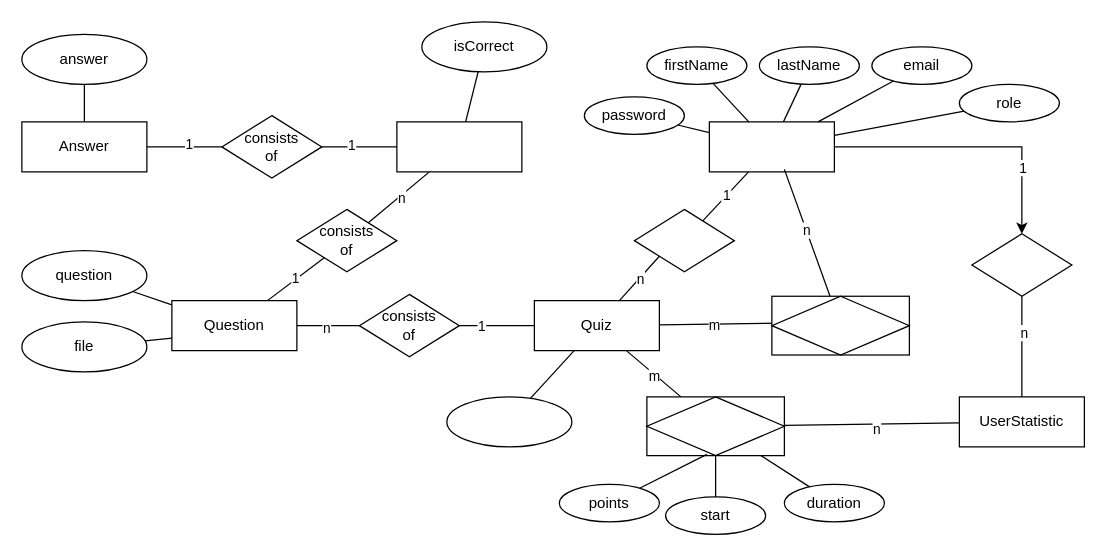
This 1106x556 diagram has some shape labels left out. The box of each missing label's shape, as (x1, y1, x2, y2) in pixels:
AnswerOption: (396, 121, 522, 172)
category: (446, 396, 572, 447)
creates: (633, 208, 734, 272)
has: (971, 232, 1072, 296)
Participants: (771, 295, 909, 355)
QuizStatistics: (646, 396, 784, 456)
User: (708, 121, 834, 172)
